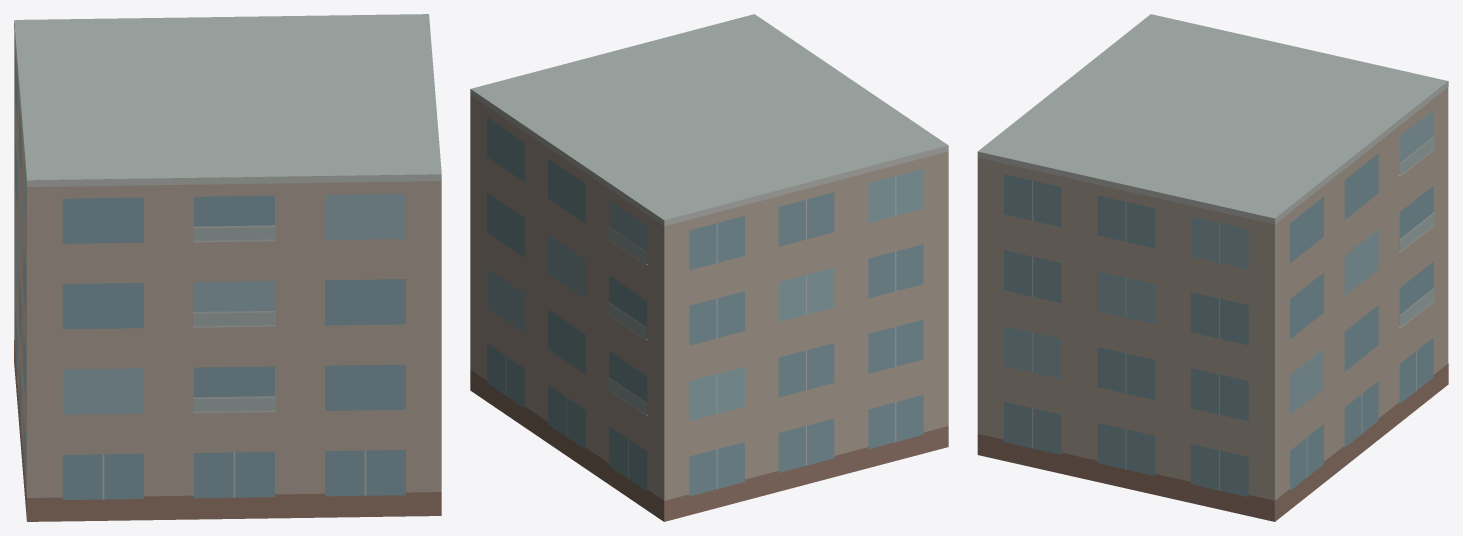
File: residential-ba7e1b9e-1e4e-49ce-b2d7-4a72e14c09d8.glb
The picture shows the model from 3 angles, left to right: view 1: azimuth 30°, elevation 25°; view 2: azimuth 150°, elevation 25°; view 3: azimuth 270°, elevation 25°; orthographic projection. The views are drawn at different scales.
Parts seen in each view (by area): view 1: residential-ba7e1b9e-1e4e-49ce-b2d7-4a72e14c09d8.tmp; view 2: residential-ba7e1b9e-1e4e-49ce-b2d7-4a72e14c09d8.tmp; view 3: residential-ba7e1b9e-1e4e-49ce-b2d7-4a72e14c09d8.tmp.
Boxes of the visible parts, x1,y1,x2,y2 form: residential-ba7e1b9e-1e4e-49ce-b2d7-4a72e14c09d8.tmp: [14, 14, 441, 521]; residential-ba7e1b9e-1e4e-49ce-b2d7-4a72e14c09d8.tmp: [470, 14, 948, 521]; residential-ba7e1b9e-1e4e-49ce-b2d7-4a72e14c09d8.tmp: [977, 14, 1448, 521].
Bounding box in the file's own units: 17.64 × 12.2 × 17.16.
